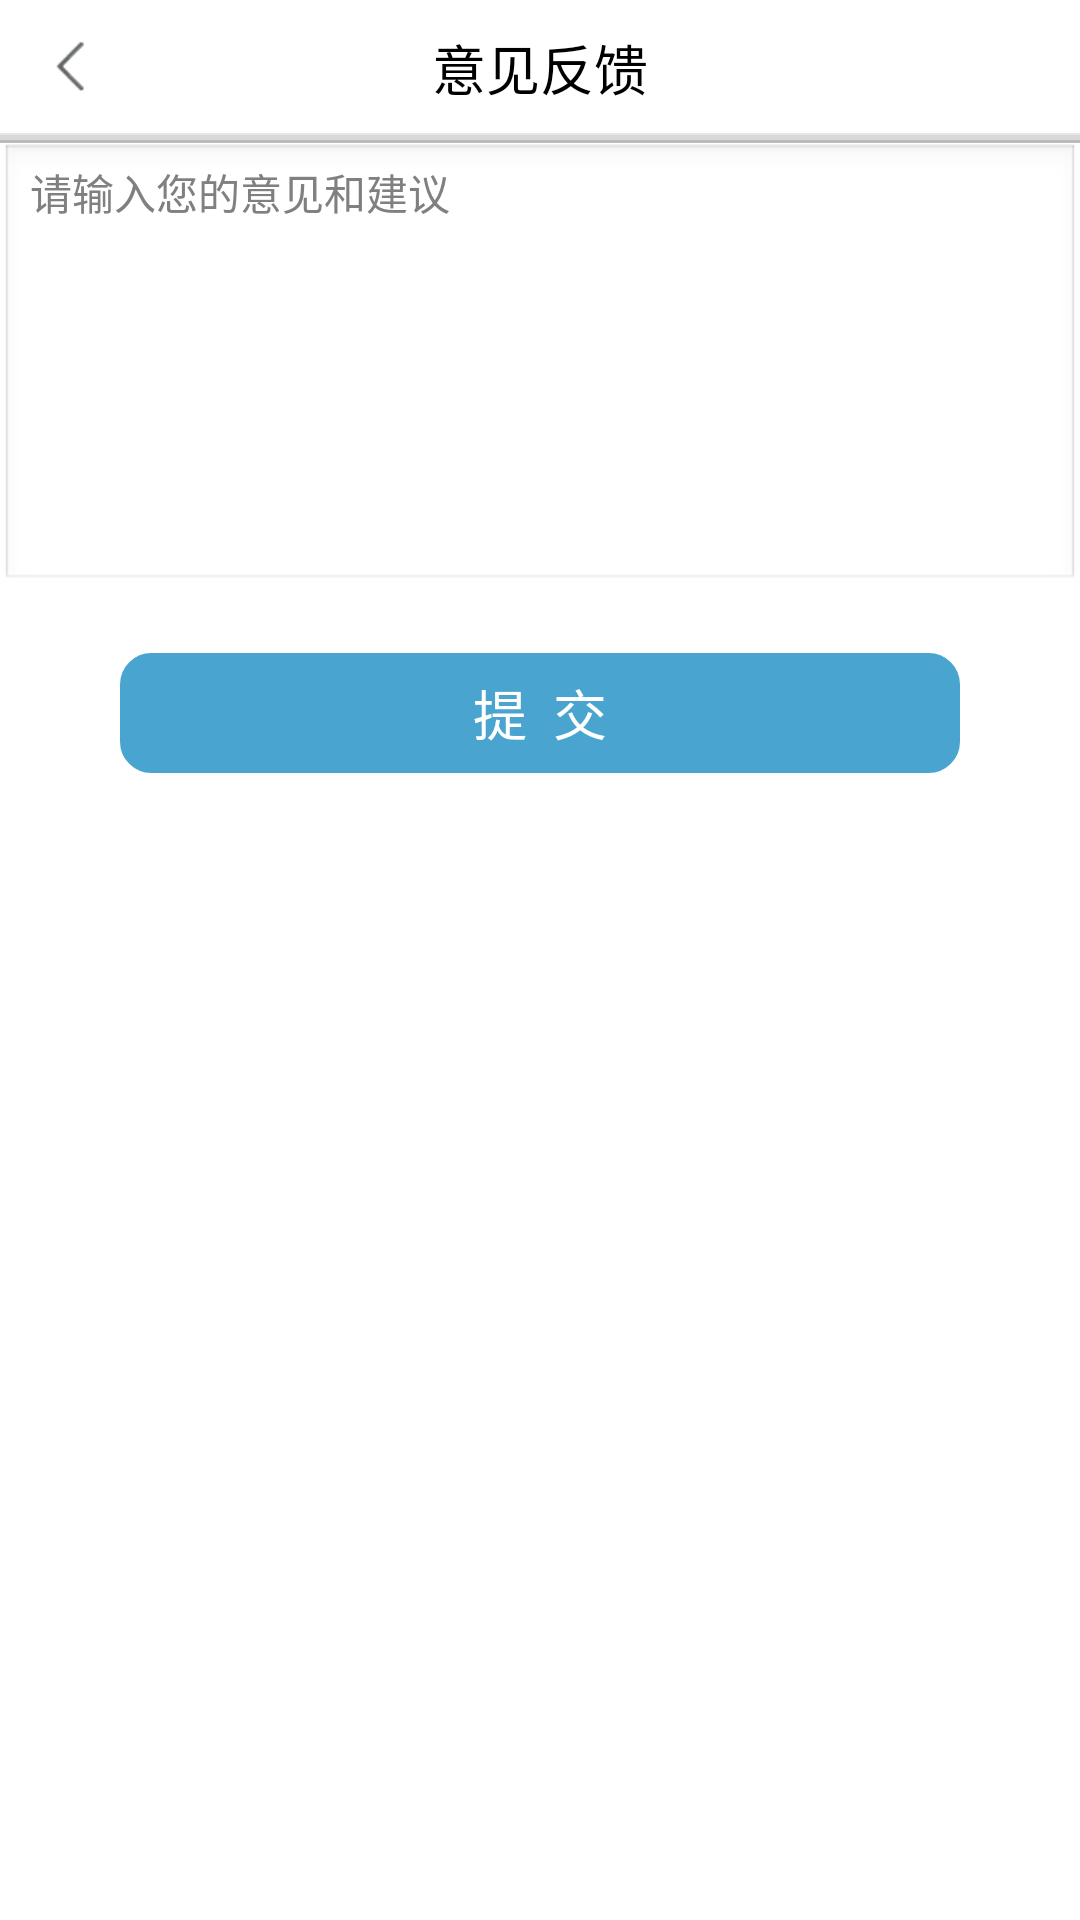

Screen size 1080 x 1920. Icon name, then its box in pixels as [x1=x1, y1=y1, x2=x2, y2=y2]:
left arrows: [x1=57, y1=42, x2=84, y2=91]
